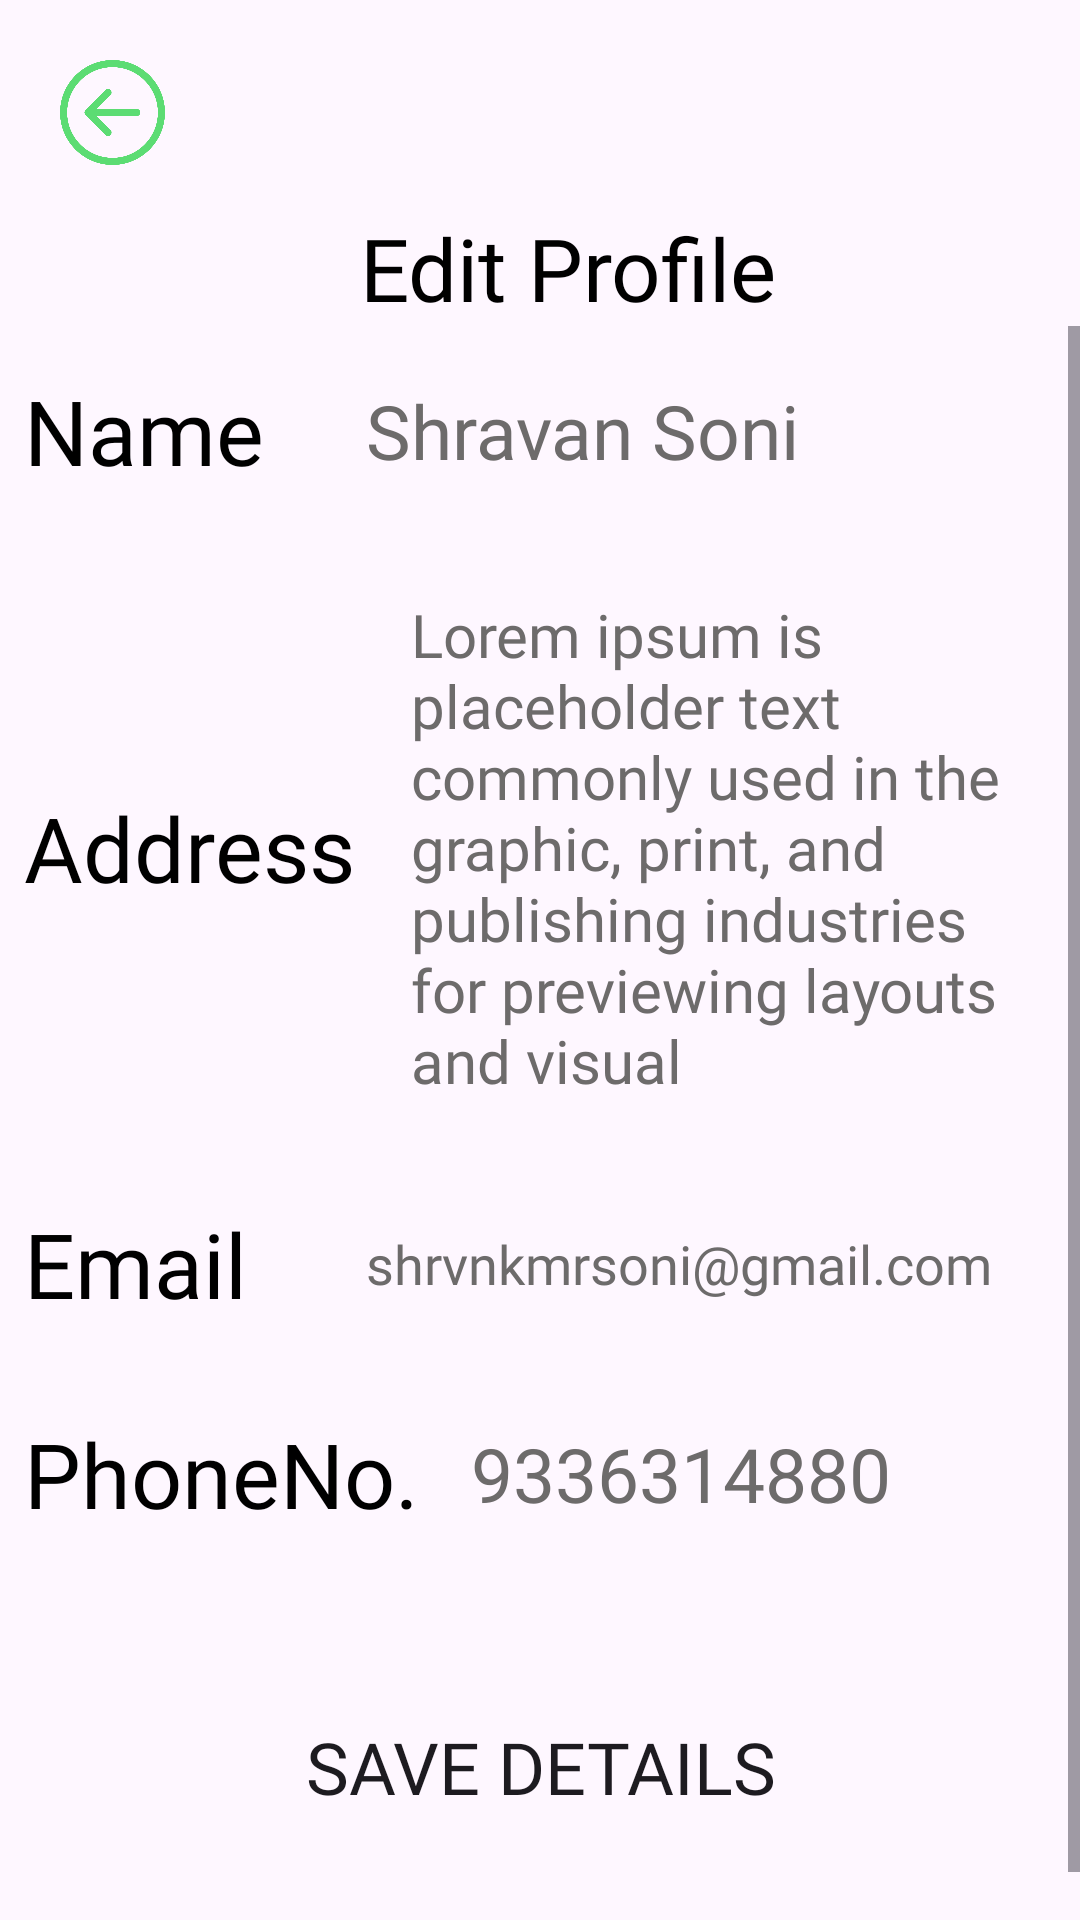

Locate icon controls on the screen. Image size 1080 x 1920, boxes as (x1, y1, x2, y2).
backbutton: (60, 60, 165, 165)
